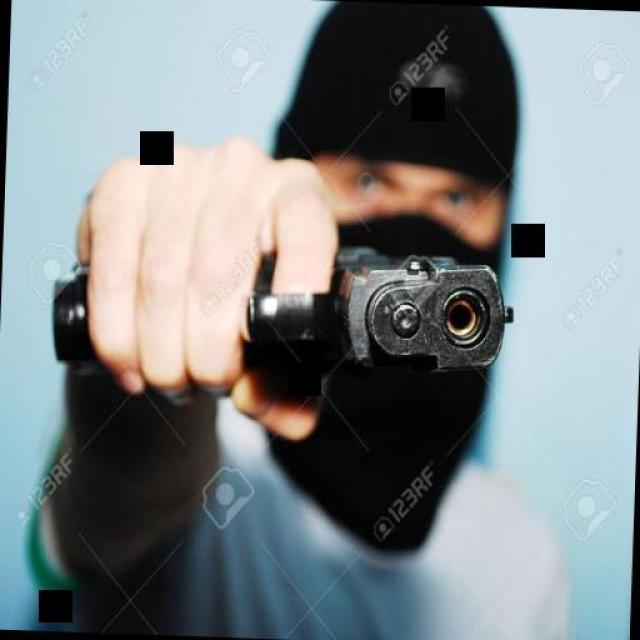gun: (31, 202, 518, 402)
